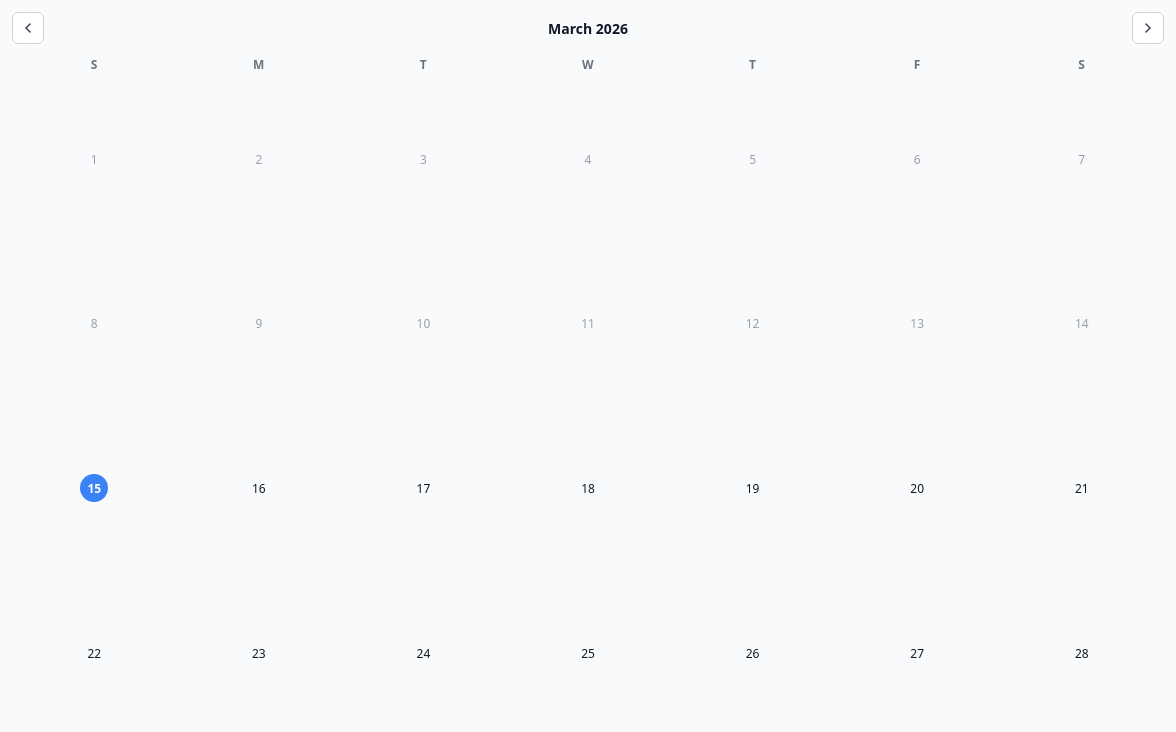
DateRangePicker › navigation › clicking next month button shows next month
This screenshot has width=1176, height=732.
Click the button named "Next month". click: {"x": 1148, "y": 28}
box: 1132,12 -> 1164,44
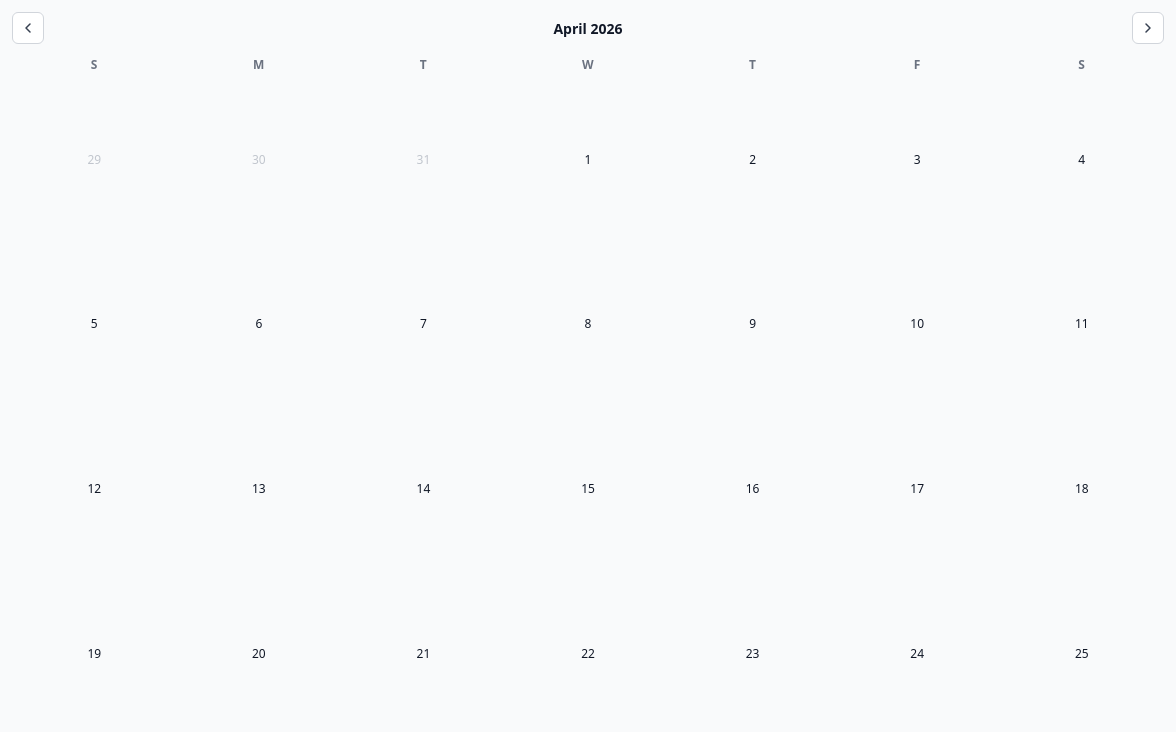
Check: the text with class "monthLabel" shows "April", box 553,18 -> 587,38
